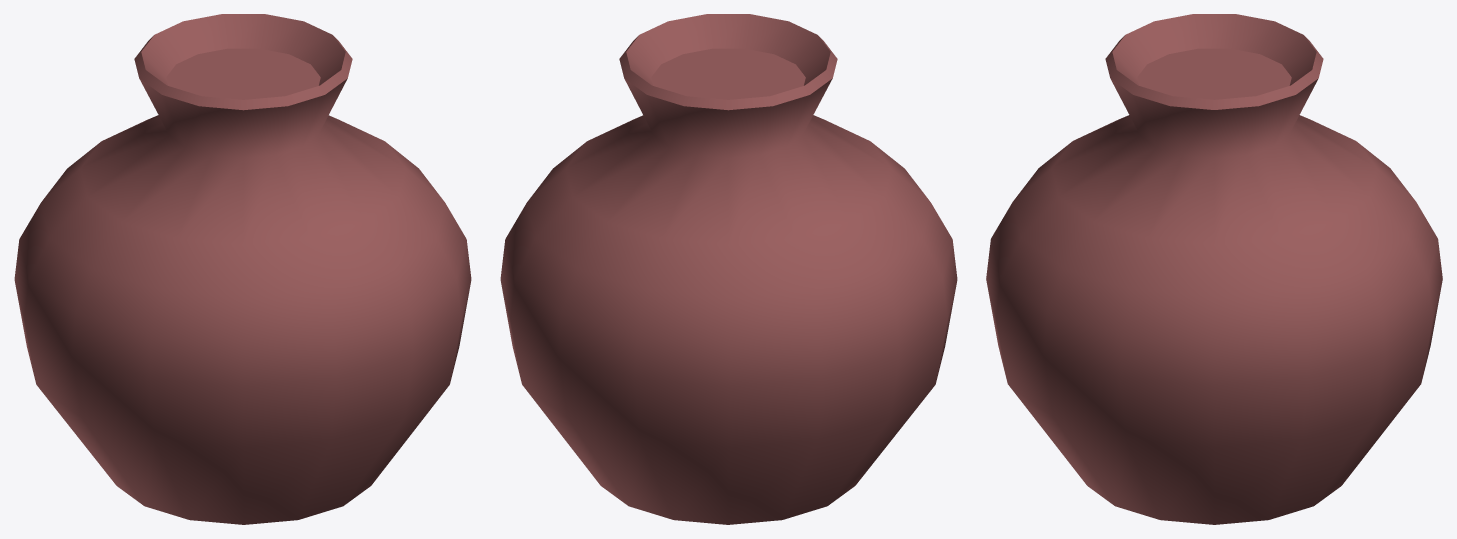
The model's file is vase_B.FBX.
3 views of the same model, side by side, from view 1: azimuth 30°, elevation 25°; view 2: azimuth 150°, elevation 25°; view 3: azimuth 270°, elevation 25° (orthographic).
Visible parts, largest first — view 1: vase_B003; view 2: vase_B003; view 3: vase_B003.
Part boxes in pixels (x1,y1,x2,y2): vase_B003: [14, 14, 471, 524]; vase_B003: [500, 14, 957, 524]; vase_B003: [986, 14, 1442, 524].
Size of the model in its own units: 1.3 by 1.3 by 1.31.
